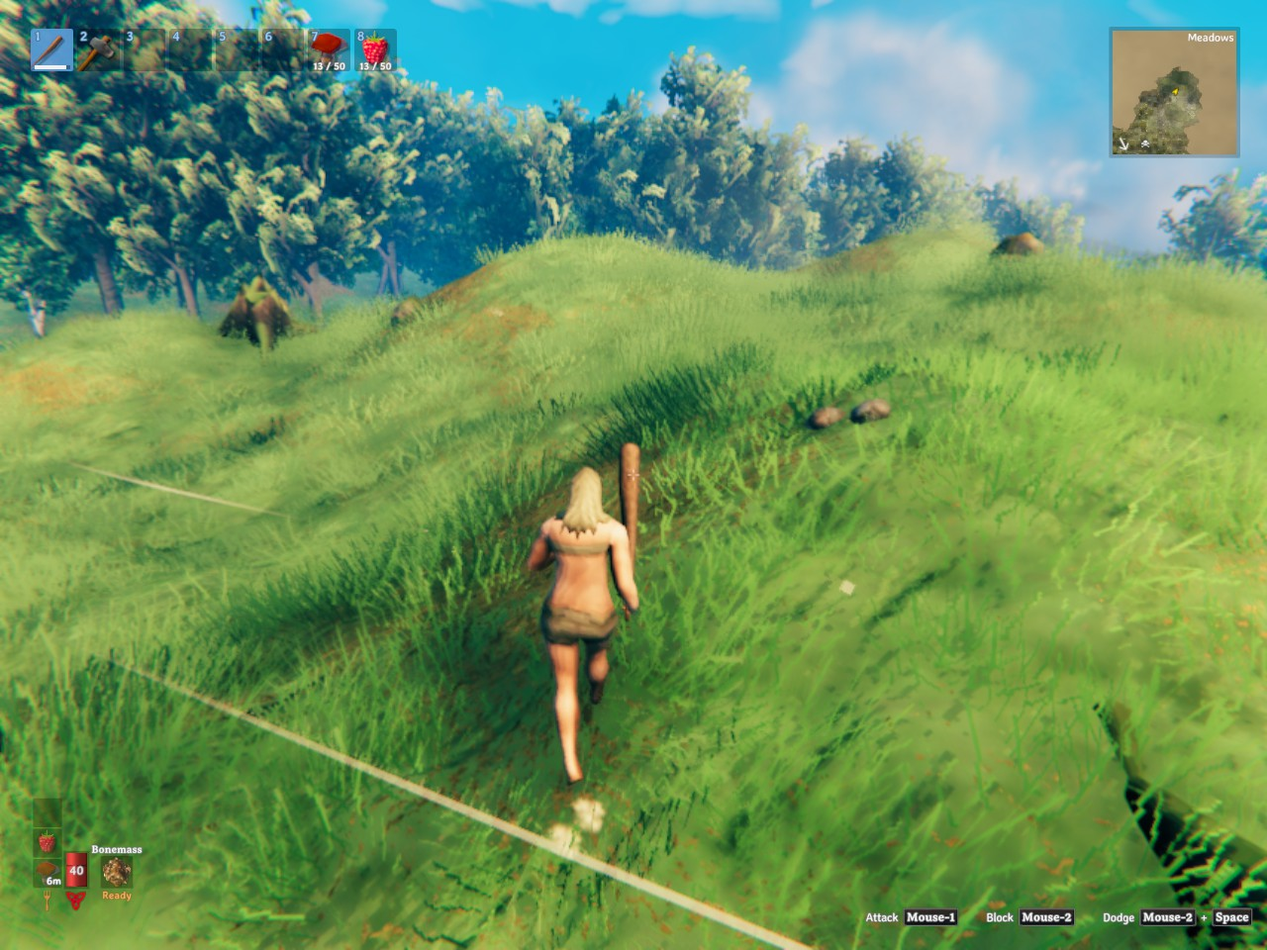Stone: (850, 399, 890, 422), (810, 407, 843, 428)
